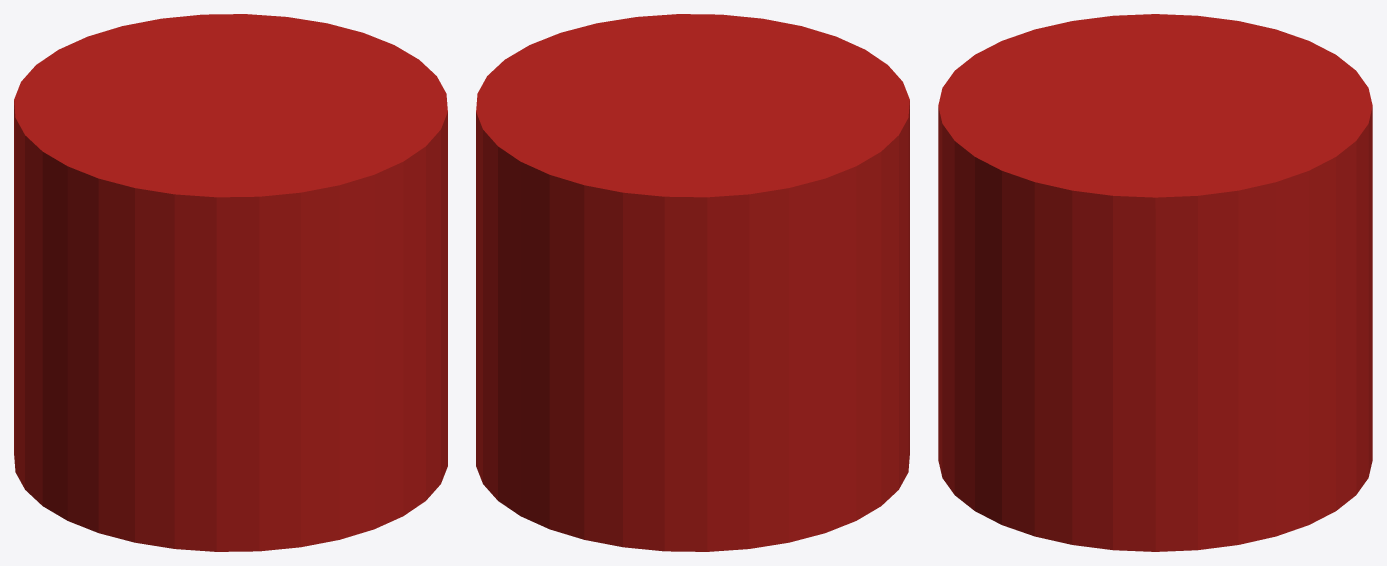
File: cup_red.dae
The picture shows the model from 3 angles, left to right: view 1: azimuth 30°, elevation 25°; view 2: azimuth 150°, elevation 25°; view 3: azimuth 270°, elevation 25°; orthographic projection.
Parts seen in each view (by area): view 1: Cylinder; view 2: Cylinder; view 3: Cylinder.
Part boxes in pixels (box(x1,y1,x2,y2)): Cylinder: box(14, 14, 447, 551); Cylinder: box(476, 14, 909, 551); Cylinder: box(938, 14, 1372, 551).
Bounding box in the file's own units: 0.1 × 0.1 × 0.09.
